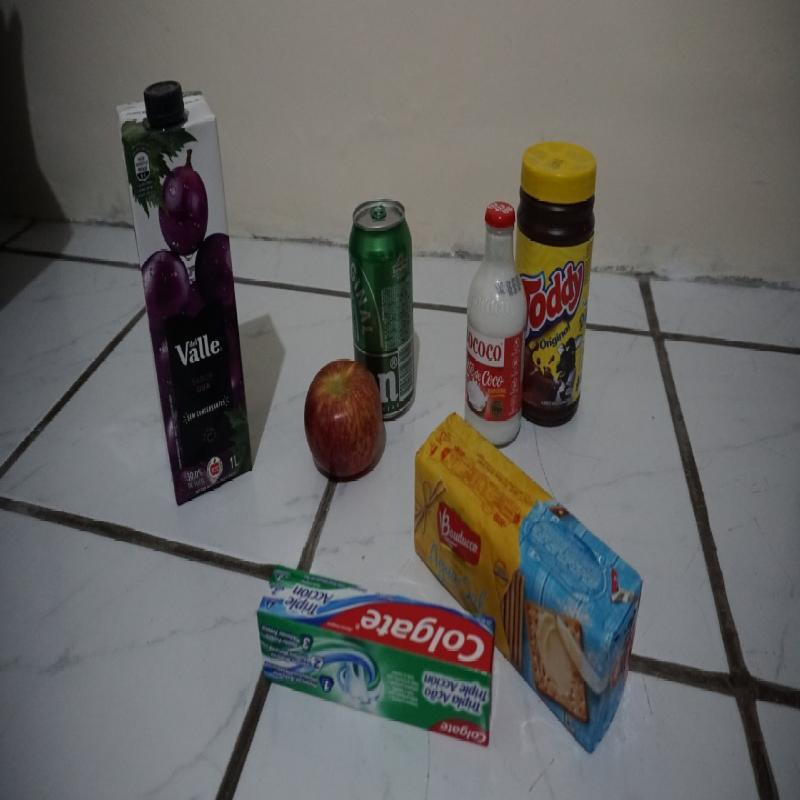Apple: (304, 356, 385, 480)
Beer can: (348, 198, 419, 422)
Chocolate Powder: (516, 140, 600, 430)
Coconut Milk: (465, 202, 528, 450)
Cracker: (414, 411, 644, 754)
Toothpaste: (255, 562, 496, 750)
